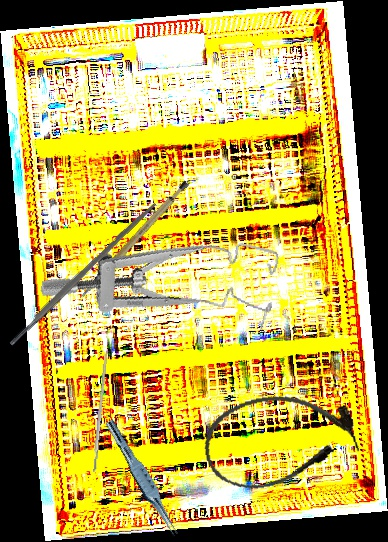Cannula: (196, 382, 364, 498)
Scalpel Handle: (7, 200, 158, 347), (62, 177, 203, 301), (91, 350, 109, 473)
Speculum: (38, 199, 285, 351)
Tissue Forceps: (98, 418, 186, 539)
